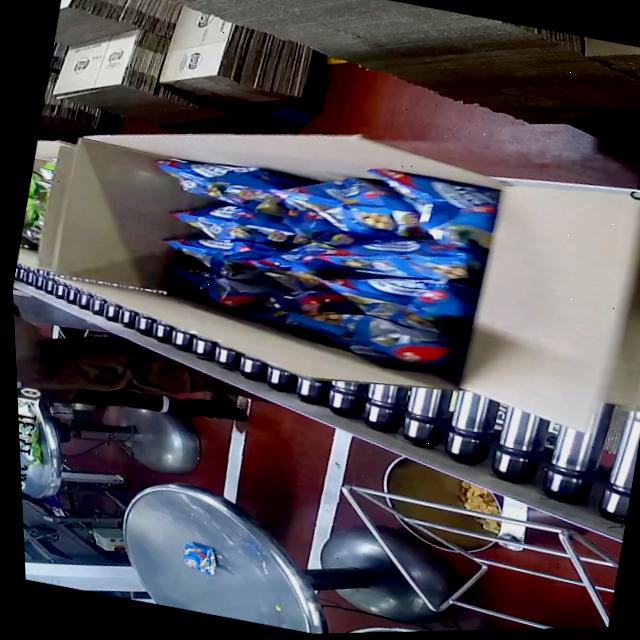PAPRIKA: (154, 123, 511, 385)
